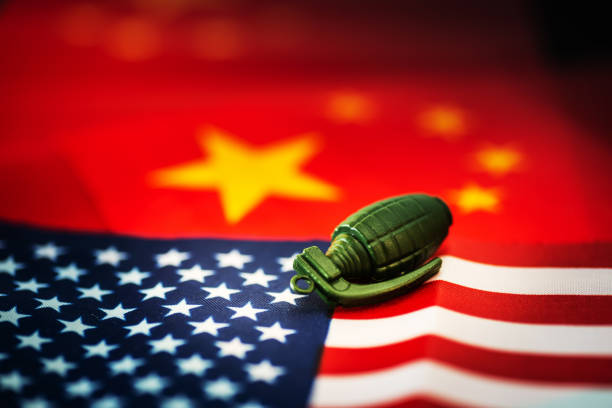e1: (281, 191, 452, 301)
